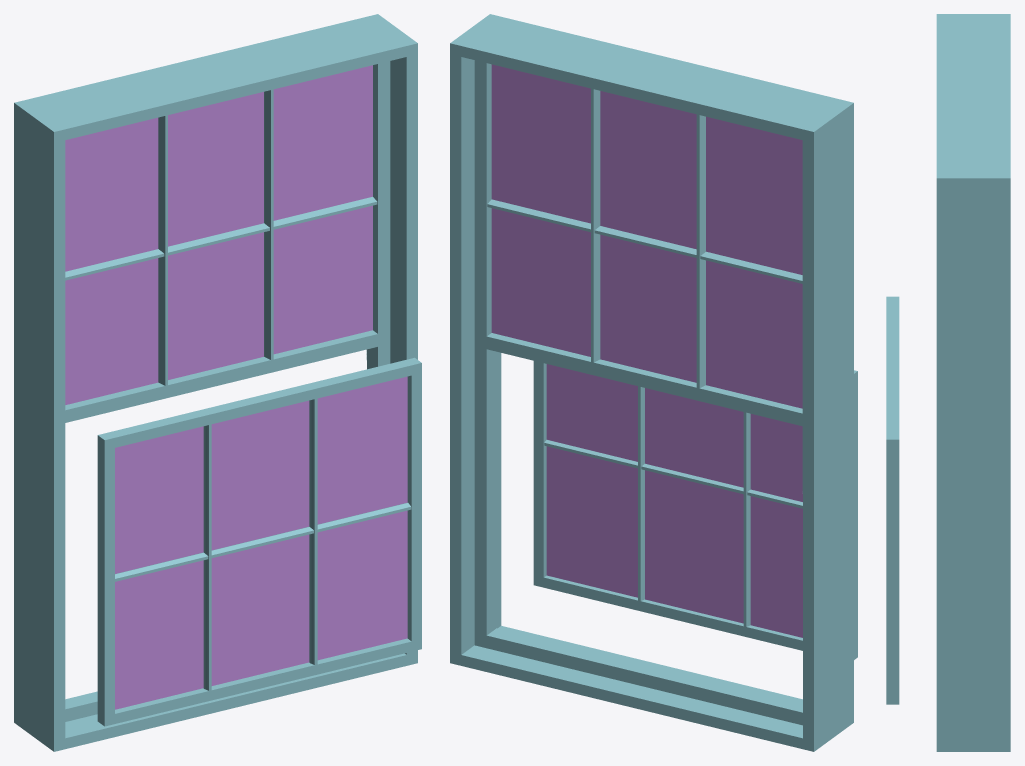
File: Big_hangar_window_v1w.FBX
The picture shows the model from 3 angles, left to right: view 1: azimuth 30°, elevation 25°; view 2: azimuth 150°, elevation 25°; view 3: azimuth 270°, elevation 25°; orthographic projection. The views are drawn at different scales.
Parts seen in each view (by area): view 1: Big_hangar_window_v1, Glass_v1, Glass_v1_p1, Big_hangar_window_v1_p1; view 2: Big_hangar_window_v1, Glass_v1, Glass_v1_p1, Big_hangar_window_v1_p1; view 3: Big_hangar_window_v1, Big_hangar_window_v1_p1.
Boxes of the visible parts, x1,y1,x2,y2 form: Big_hangar_window_v1: (14, 14, 417, 751); Glass_v1: (65, 65, 372, 404); Glass_v1_p1: (115, 376, 407, 709); Big_hangar_window_v1_p1: (97, 357, 421, 726); Big_hangar_window_v1: (450, 14, 853, 751); Glass_v1: (491, 64, 802, 408); Glass_v1_p1: (546, 364, 802, 637); Big_hangar_window_v1_p1: (533, 361, 857, 659); Big_hangar_window_v1: (936, 14, 1010, 751); Big_hangar_window_v1_p1: (886, 296, 899, 704).
Size of the model in its own units: 2.21 by 3.6 by 0.7071.
